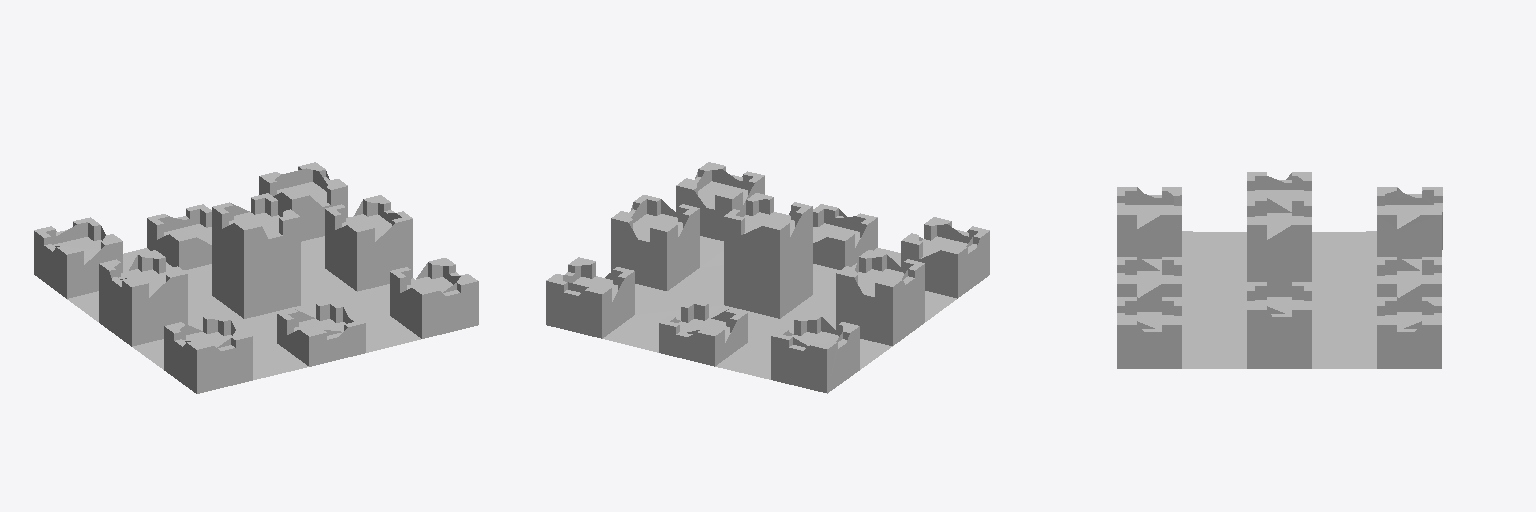
The model's file is map.obj.
3 views of the same model, side by side, from view 1: azimuth 30°, elevation 25°; view 2: azimuth 150°, elevation 25°; view 3: azimuth 270°, elevation 25° (orthographic).
Visible parts, largest first — view 1: Prostokąt; view 2: Prostokąt; view 3: Prostokąt.
Boxes of the visible parts, box(x1,y1,x2,y2) form: Prostokąt: box(34, 162, 478, 393); Prostokąt: box(546, 162, 989, 393); Prostokąt: box(1117, 172, 1442, 368).
Size of the model in its own units: 10.01 by 3.02 by 10.03.